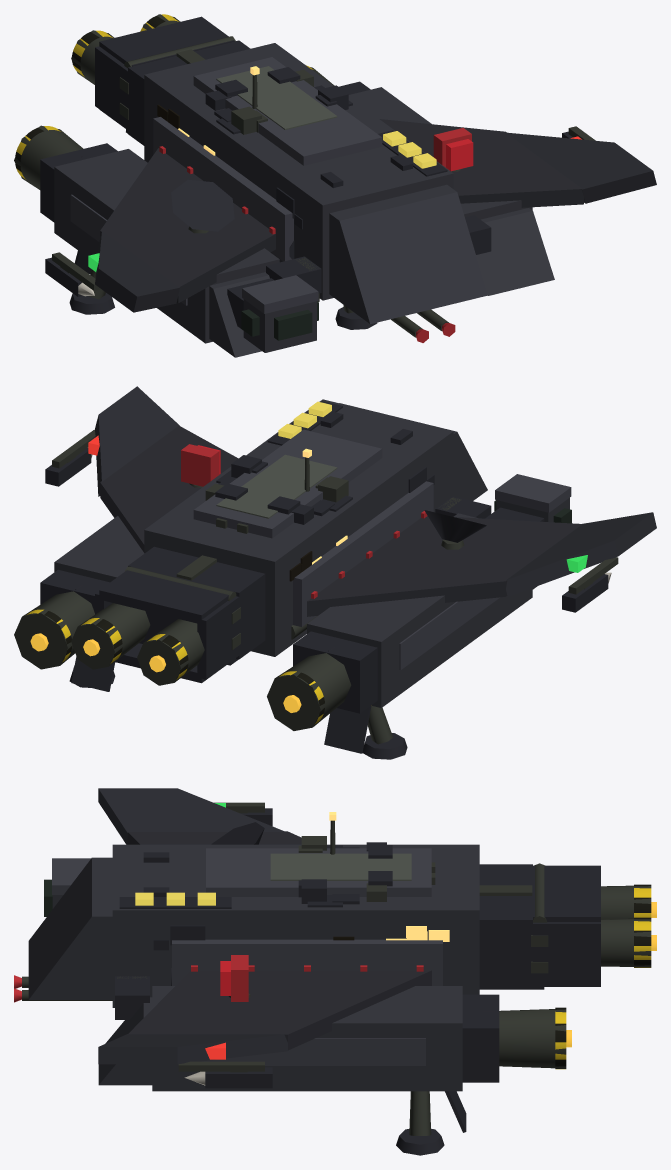
Rendered from enforcer_heavy-s.glb.
3 renders of one model, top to bottom at view 1: azimuth 30°, elevation 25°; view 2: azimuth 150°, elevation 25°; view 3: azimuth 270°, elevation 25°, orthographic. The views are drawn at different scales.
Visible parts, largest first — view 1: hullMain, hullForebody, wingInnerLeft, outriggerLeft, wingInnerRight, armourDorsal, wingOuterRight, armourFlankL, outriggerNoseRight, wingOuterLeft, accentStripe, cShroudT (+22 smaller); view 2: hullMain, wingInnerLeft, engineHousing (×4), outriggerLeft, wingInnerRight, armourDorsal, armourFlankL, wingOuterLeft, wingOuterRight, centralEngineBay, cShroudT, engineBayLeft (+20 smaller); view 3: hullMain, wingInnerRight, outriggerRight, hullForebody, armourFlankR, engineHousing (×3), centralEngineBay, armourDorsal, wingOuterLeft, wingOuterRight, armourPodRight, cShroudSR (+18 smaller).
Boxes of the visible parts, x1=… form: hullMain: x1=144, y1=43, x2=453, y2=300; hullForebody: x1=329, y1=184, x2=487, y2=324; wingInnerLeft: x1=100, y1=148, x2=275, y2=303; outriggerLeft: x1=54, y1=149, x2=279, y2=343; wingInnerRight: x1=379, y1=119, x2=583, y2=207; armourDorsal: x1=193, y1=57, x2=382, y2=165; wingOuterRight: x1=506, y1=132, x2=656, y2=203; armourFlankL: x1=153, y1=117, x2=293, y2=261; outriggerNoseRight: x1=476, y1=208, x2=554, y2=295; wingOuterLeft: x1=95, y1=231, x2=179, y2=312; accentStripe: x1=216, y1=66, x2=337, y2=129; cShroudT: x1=99, y1=16, x2=234, y2=66; hullMain: x1=144, y1=399, x2=453, y2=656; wingInnerLeft: x1=307, y1=516, x2=582, y2=616; engineHousing (×4): x1=14, y1=591, x2=351, y2=730; outriggerLeft: x1=307, y1=513, x2=532, y2=707; wingInnerRight: x1=100, y1=425, x2=238, y2=552; armourDorsal: x1=193, y1=429, x2=382, y2=538; armourFlankL: x1=293, y1=481, x2=433, y2=626; wingOuterLeft: x1=506, y1=512, x2=656, y2=596; wingOuterRight: x1=95, y1=386, x2=179, y2=496; centralEngineBay: x1=128, y1=546, x2=265, y2=659; cShroudT: x1=99, y1=566, x2=234, y2=623; engineBayLeft: x1=293, y1=631, x2=377, y2=713; hullMain: x1=112, y1=844, x2=479, y2=1007; wingInnerRight: x1=128, y1=970, x2=431, y2=1050; outriggerRight: x1=152, y1=986, x2=462, y2=1091; hullForebody: x1=28, y1=857, x2=112, y2=999; armourFlankR: x1=172, y1=939, x2=442, y2=985; engineHousing (×3): x1=499, y1=885, x2=651, y2=1068; centralEngineBay: x1=479, y1=864, x2=532, y2=988; armourDorsal: x1=206, y1=848, x2=431, y2=896; wingOuterLeft: x1=98, y1=788, x2=285, y2=844; wingOuterRight: x1=98, y1=1034, x2=287, y2=1064; armourPodRight: x1=202, y1=1038, x2=425, y2=1065; cShroudSR: x1=533, y1=922, x2=600, y2=984.
Bounding box in the file's own units: 3.57 × 1.54 × 3.65.
